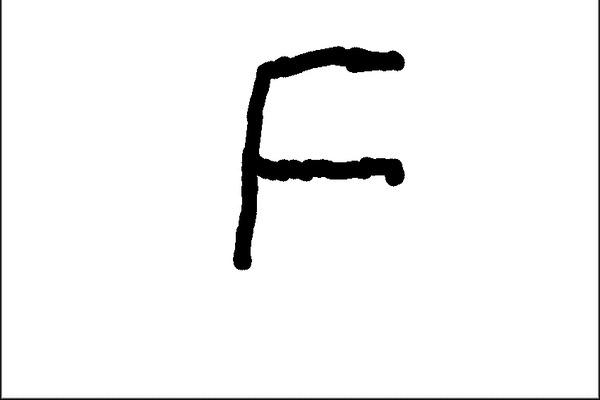F: (224, 42, 410, 272)
